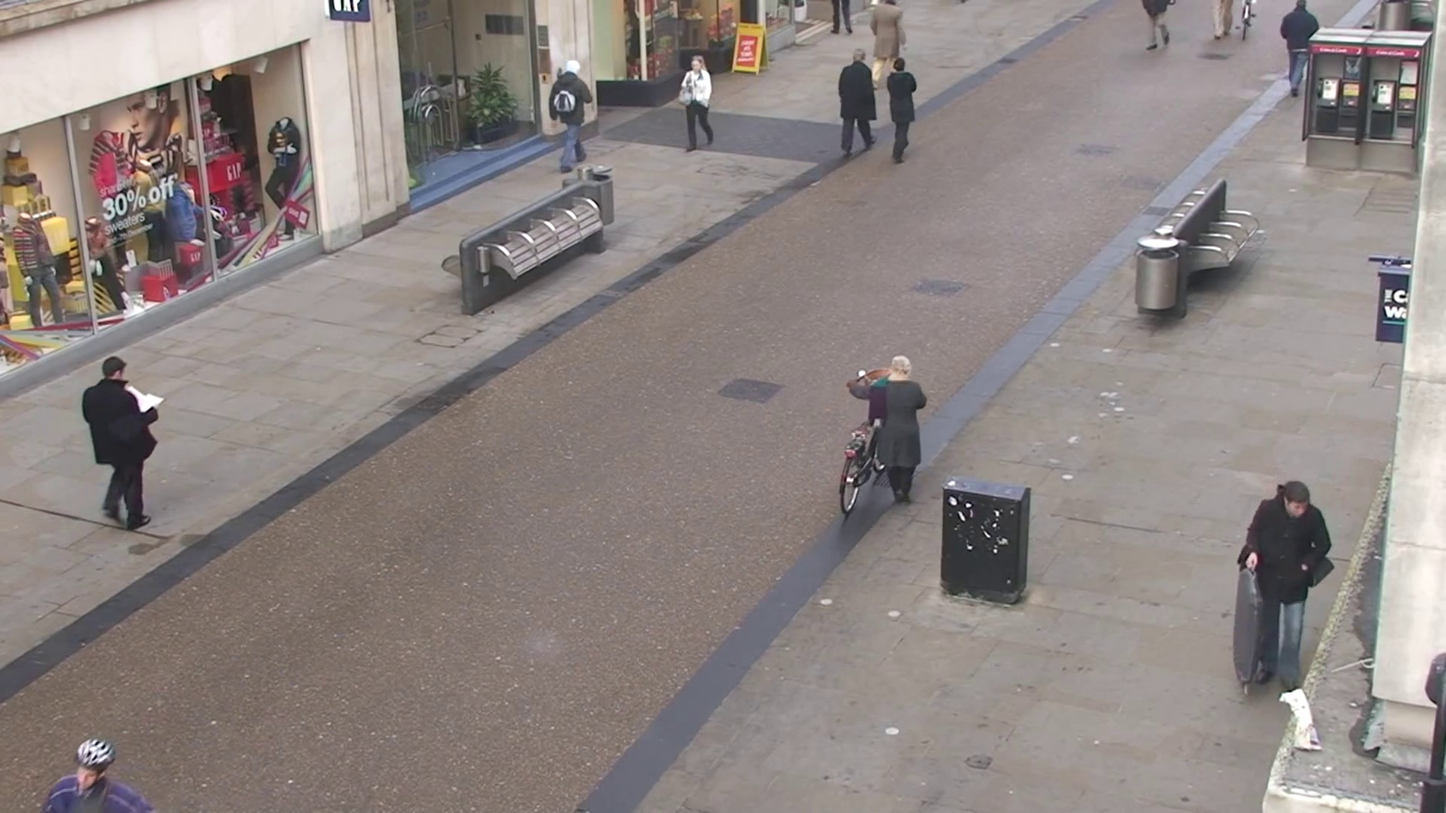person: (1239, 479, 1334, 691), (83, 355, 162, 528), (845, 354, 927, 502), (42, 738, 154, 812), (549, 59, 595, 175), (837, 49, 877, 157), (883, 51, 918, 166), (1280, 0, 1320, 97), (678, 54, 715, 151), (1141, 0, 1172, 52)
